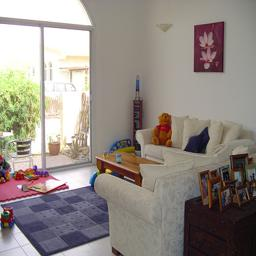pottedplant: (2, 95, 82, 231), (90, 183, 122, 229)
sofa: (128, 178, 256, 256), (138, 167, 256, 242)
